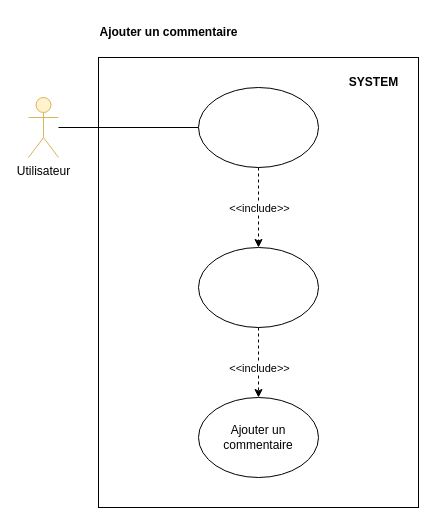
Some shapes in this 436 by 525 pixel diagram are drawn without their labels. The shapes that lost their labels are listed below. From the top down, each one's centre as x and y in pixels, then its label:
[258,127]: Connexion à l'application
[258,287]: Afficher un article
